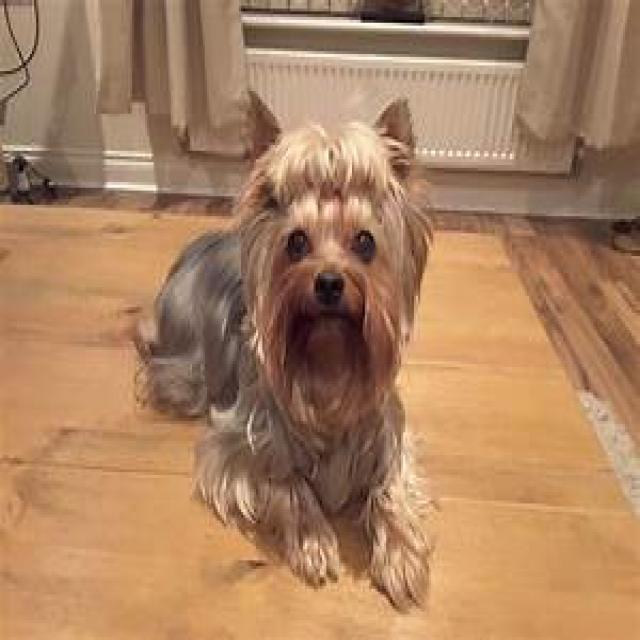dog: (141, 102, 437, 617)
